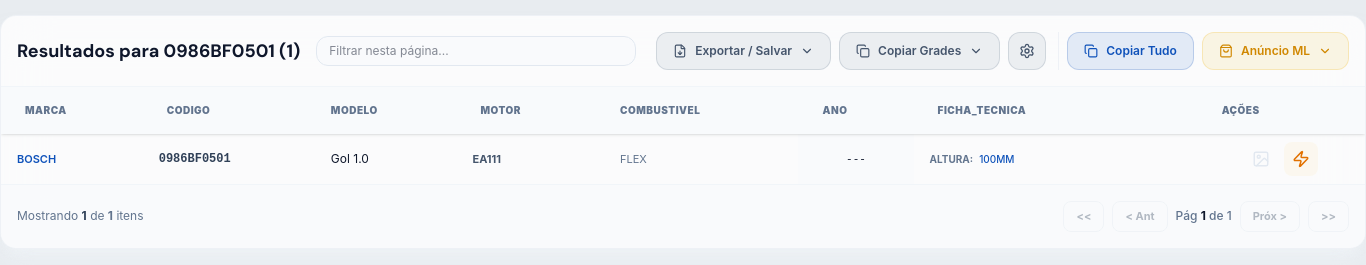
Test case: DataTable (Home Principal) Component › opens export menu when clicking Export button
Click the button "Exportar / Salvar": (744, 51) left=656, top=32, right=831, bottom=70
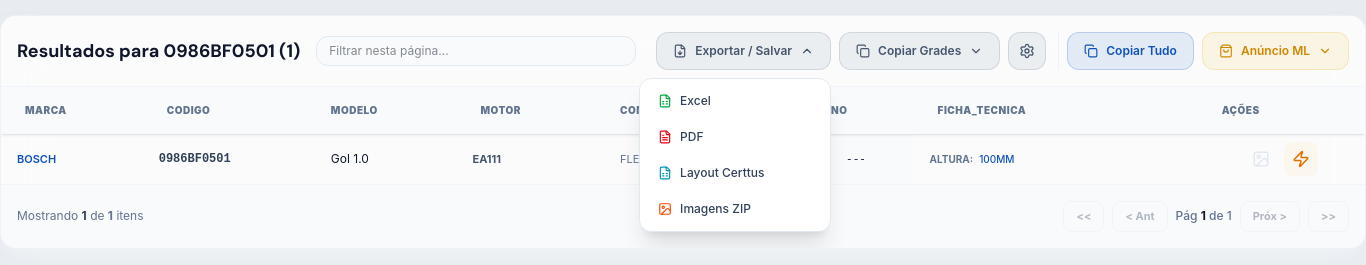
Now the button "Excel" is shown, box left=646, top=85, right=824, bottom=117
Now the button "PDF" is shown, box left=646, top=121, right=824, bottom=153
Now the button "Layout Certtus" is shown, box left=646, top=157, right=824, bottom=189
